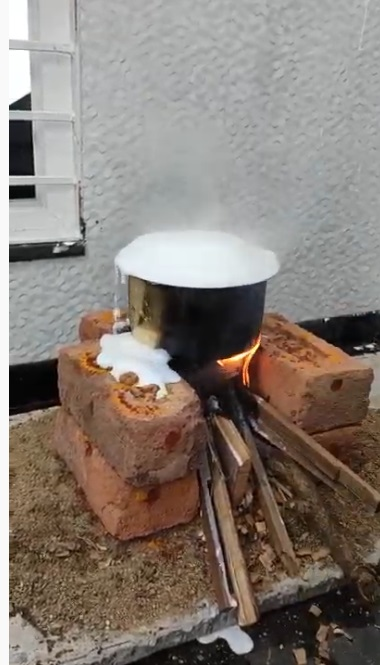Boiled: (92, 219, 307, 416)
